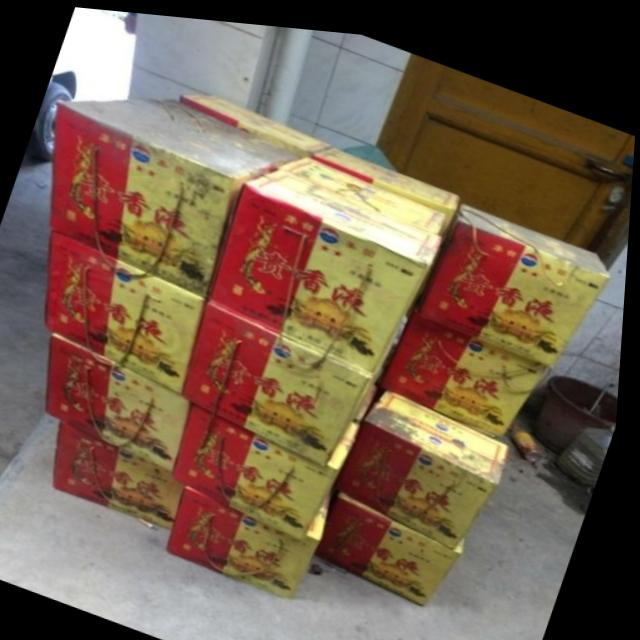box: (51, 94, 301, 295), (210, 162, 446, 369), (186, 294, 379, 459), (421, 194, 610, 358), (338, 382, 514, 539), (177, 395, 366, 537), (48, 229, 208, 391), (384, 303, 555, 431), (50, 330, 195, 470), (174, 479, 337, 592), (321, 485, 471, 599), (60, 418, 191, 526), (281, 148, 450, 229), (307, 138, 463, 208), (180, 88, 334, 150), (360, 374, 386, 416)
